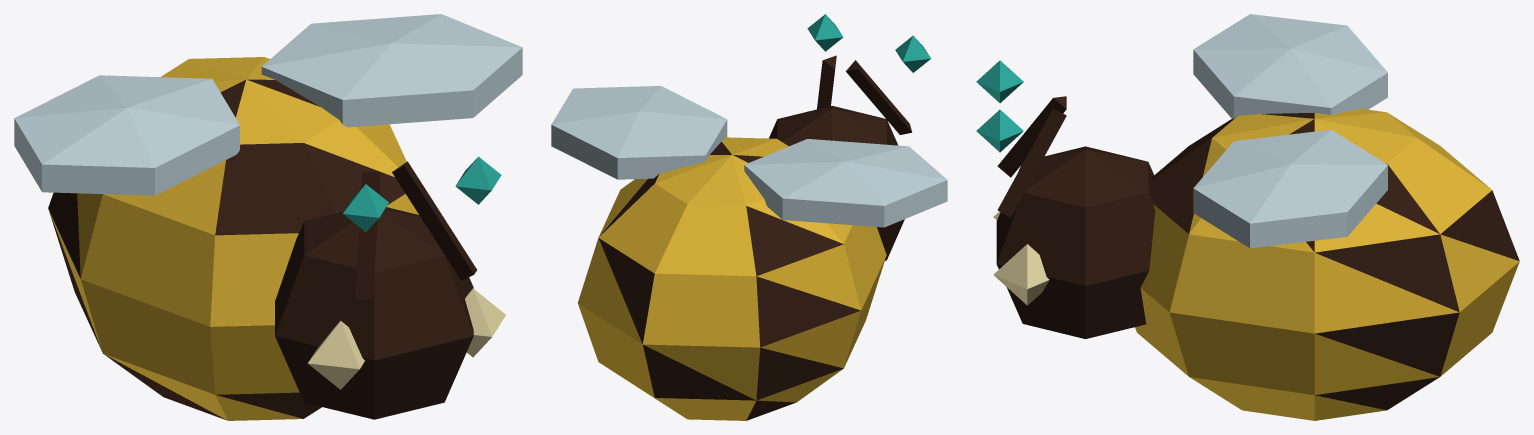
File: skin-bee-classic.glb
3 views of the same model, side by side, from view 1: azimuth 30°, elevation 25°; view 2: azimuth 150°, elevation 25°; view 3: azimuth 270°, elevation 25° (orthographic). The views are drawn at different scales.
Size of the model in its own units: 1.45 by 1.03 by 1.59.
